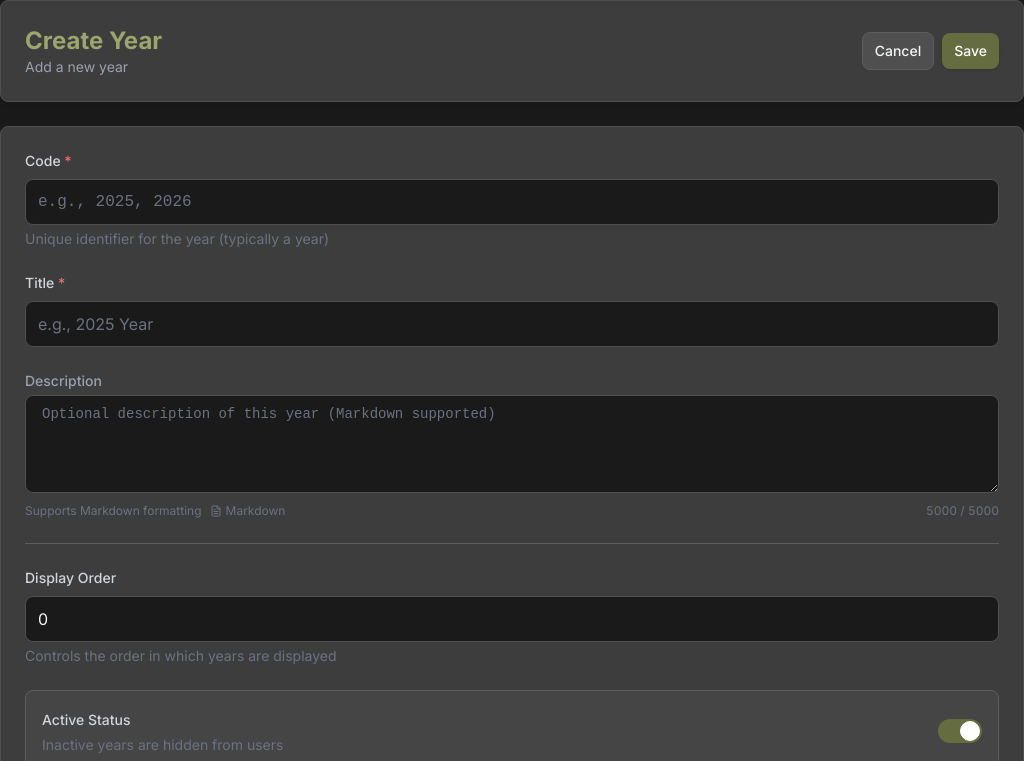
Test case: YearForm › Create Mode › validates code field
Type "2" into the field with placeholder "e.g., 2025, 2026" at (512, 202), box [25,179,999,225]
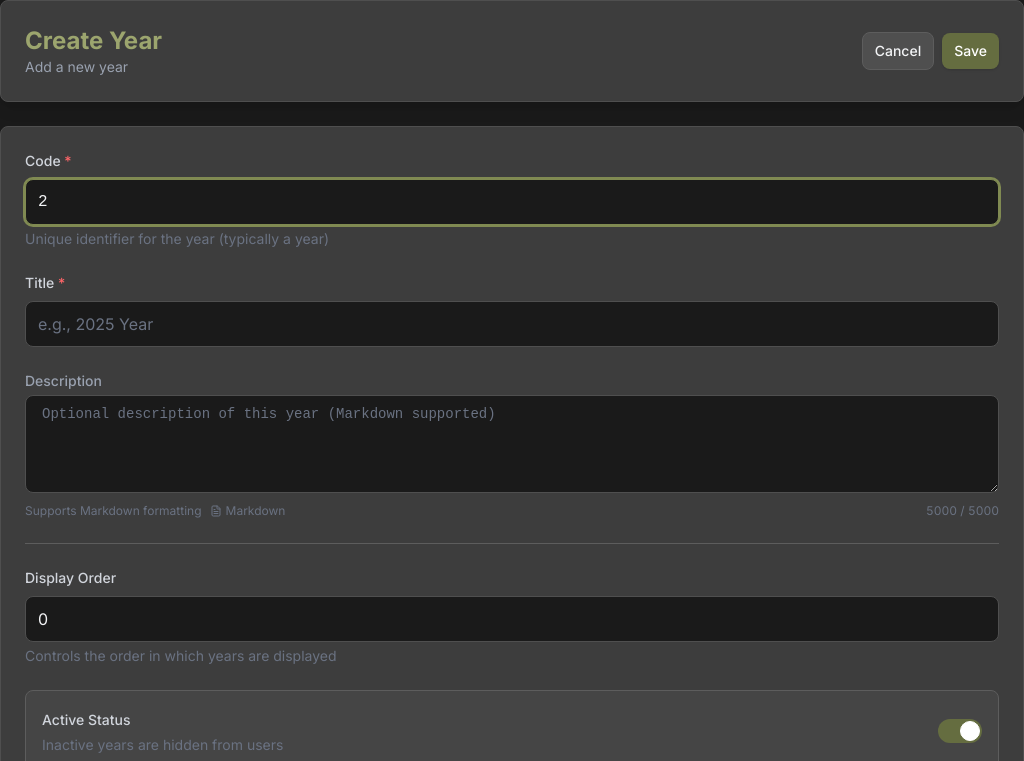
Press Tab
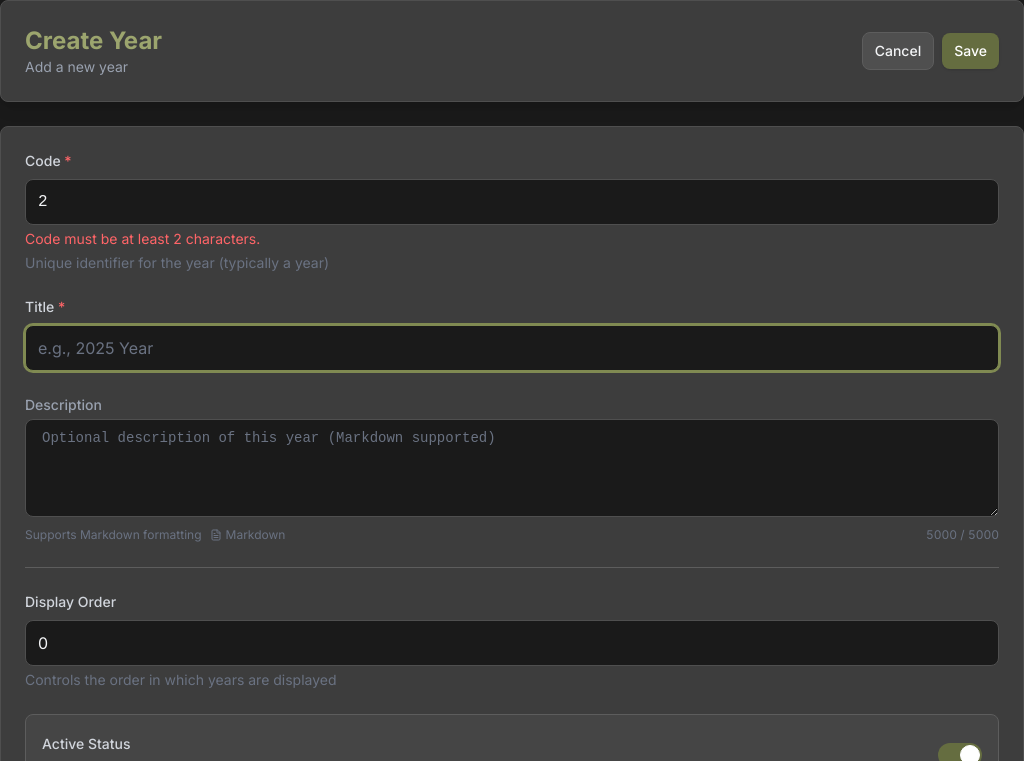
Check: the text "Code must be at least 2 characters." is shown, box [25,230,260,247]
